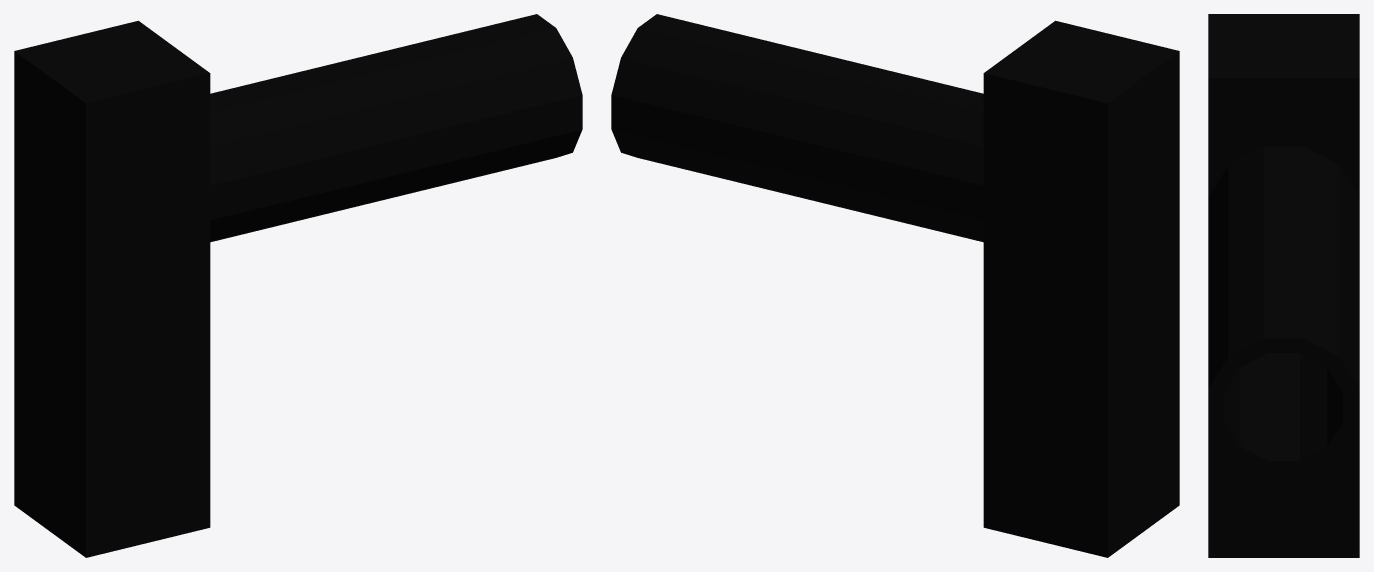
Rendered from bazooka.gltf.
3 views of the same model, side by side, from view 1: azimuth 30°, elevation 25°; view 2: azimuth 150°, elevation 25°; view 3: azimuth 270°, elevation 25° (orthographic). The views are drawn at different scales.
Parts seen in each view (by area): view 1: mesh, tube; view 2: mesh, tube; view 3: tube, mesh.
Boxes of the visible parts, x1,y1,x2,y2 form: mesh: (14,20,210,557); tube: (14,14,582,278); mesh: (983,20,1179,557); tube: (611,14,1179,249); tube: (1208,146,1359,475); mesh: (1208,14,1359,557).
Bounding box in the file's own units: 0.5 × 0.4375 × 0.125.
2 materials, 2 textured.
